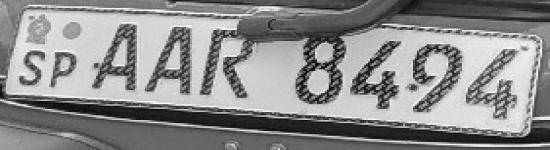4: (467, 49, 515, 121), (354, 39, 399, 110)
8: (295, 34, 346, 105)
9: (411, 44, 464, 113)
A: (146, 26, 192, 92), (97, 22, 138, 88)
P: (48, 47, 79, 89)
R: (202, 29, 249, 98)
S: (17, 45, 48, 88)
